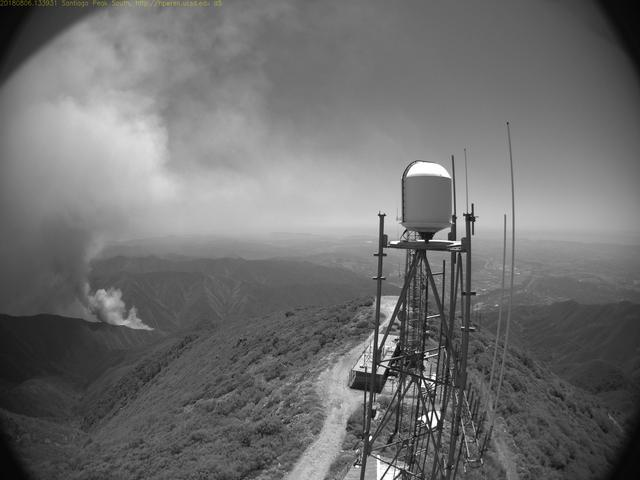smoke: (1, 17, 157, 333)
